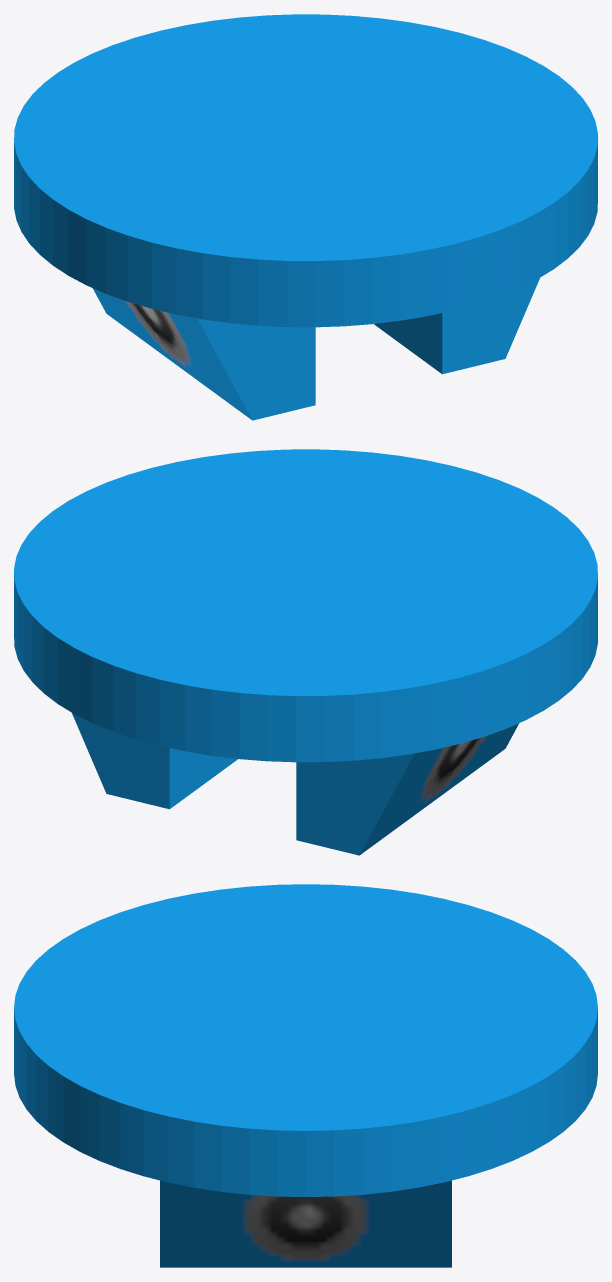
The model's file is convert2.obj.
The picture shows the model from 3 angles, top to bottom: view 1: azimuth 30°, elevation 25°; view 2: azimuth 150°, elevation 25°; view 3: azimuth 270°, elevation 25°; orthographic projection.
Parts seen in each view (by area): view 1: Circle, ColobotMesh_1_ColobotMesh_; view 2: Circle, ColobotMesh_1_ColobotMesh_; view 3: Circle, ColobotMesh_1_ColobotMesh_.
Part boxes in pixels (x1=…): Circle: x1=14, y1=14, x2=597, y2=327; ColobotMesh_1_ColobotMesh_: x1=93, y1=278, x2=539, y2=420; Circle: x1=14, y1=449, x2=597, y2=762; ColobotMesh_1_ColobotMesh_: x1=72, y1=713, x2=518, y2=855; Circle: x1=14, y1=884, x2=597, y2=1196; ColobotMesh_1_ColobotMesh_: x1=160, y1=1180, x2=451, y2=1267.
Size of the model in its own units: 8 by 3 by 8.
